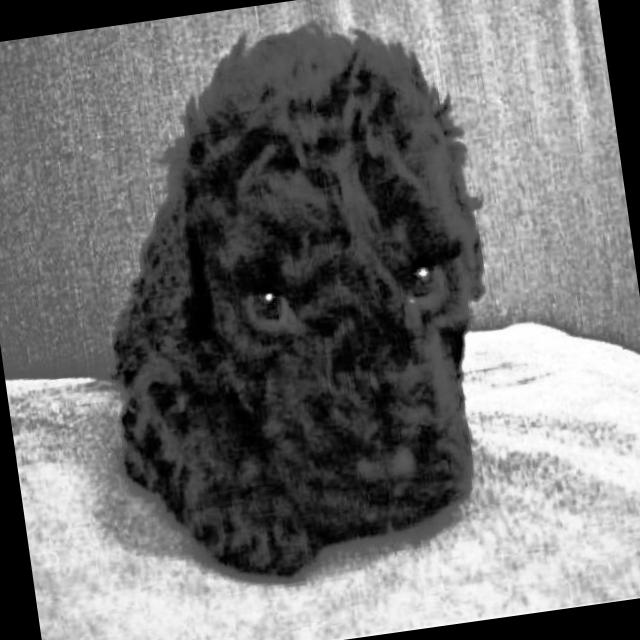Dog: (58, 0, 531, 613)
